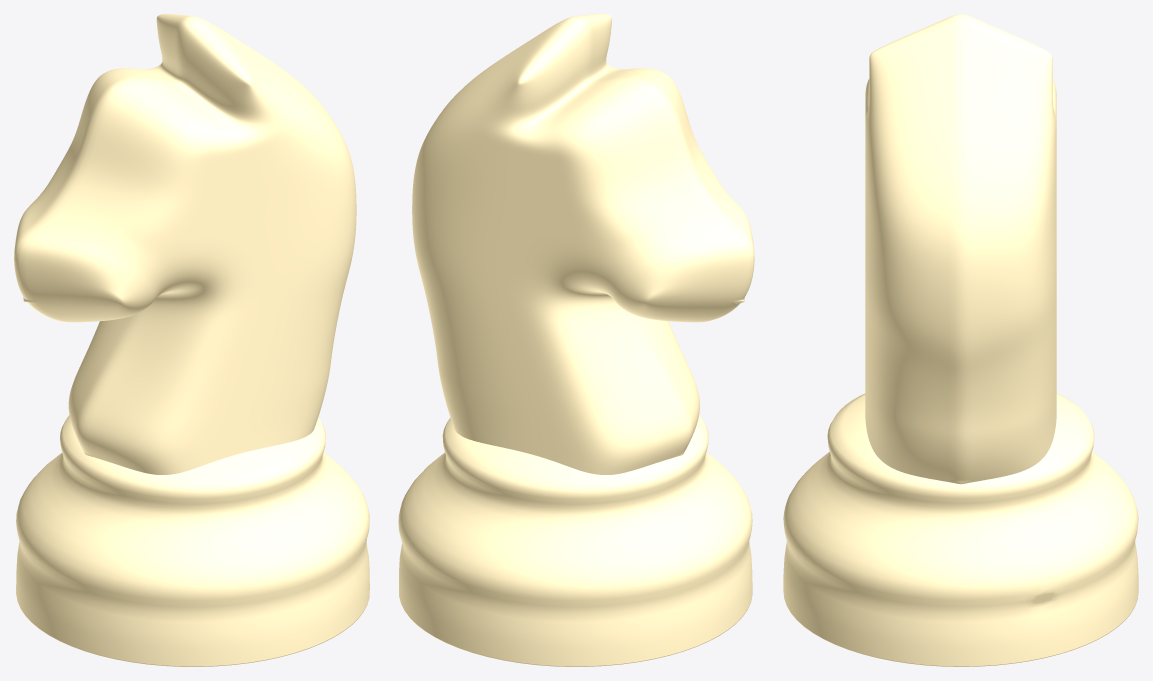
File: Knight.glb
3 renders of one model, left to right at view 1: azimuth 30°, elevation 25°; view 2: azimuth 150°, elevation 25°; view 3: azimuth 270°, elevation 25°, orthographic.
Visible parts, largest first — view 1: knight_21; view 2: knight_21; view 3: knight_21.
Boxes of the visible parts, x1=… form: knight_21: x1=14, y1=14, x2=369, y2=666; knight_21: x1=398, y1=14, x2=754, y2=666; knight_21: x1=783, y1=14, x2=1138, y2=666.
Bounding box in the file's own units: 0.1956 × 0.3246 × 0.1814.
